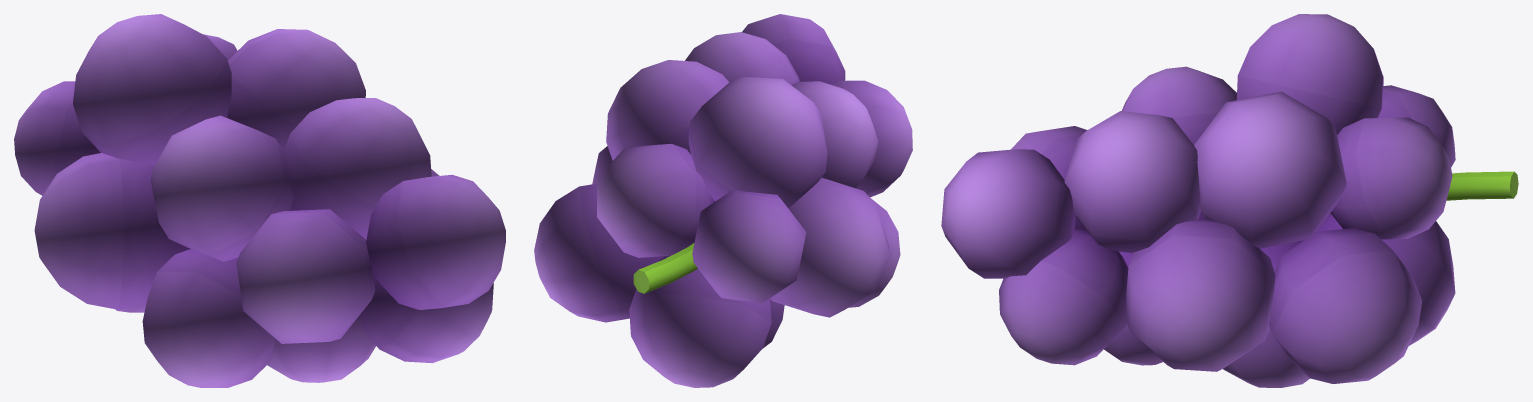
File: Grape.FBX
3 renders of one model, left to right at view 1: azimuth 30°, elevation 25°; view 2: azimuth 150°, elevation 25°; view 3: azimuth 270°, elevation 25°, orthographic. The views are drawn at different scales.
Visible parts, largest first — view 1: Grape; view 2: Grape; view 3: Grape.
Part boxes in pixels (x1=…): Grape: x1=14, y1=14, x2=505, y2=387; Grape: x1=534, y1=14, x2=912, y2=387; Grape: x1=941, y1=14, x2=1518, y2=387.
Size of the model in its own units: 130 by 118 by 186.
